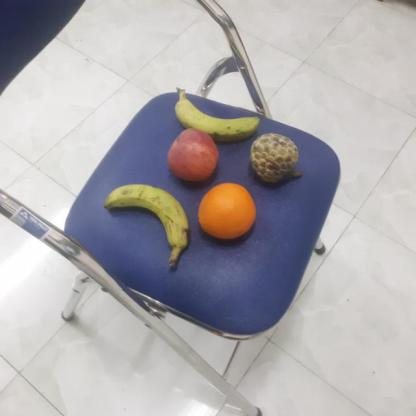annona: (248, 132, 300, 183)
apple: (164, 126, 220, 184)
banana: (102, 181, 191, 252), (173, 94, 261, 143)
orange: (197, 181, 258, 239)
